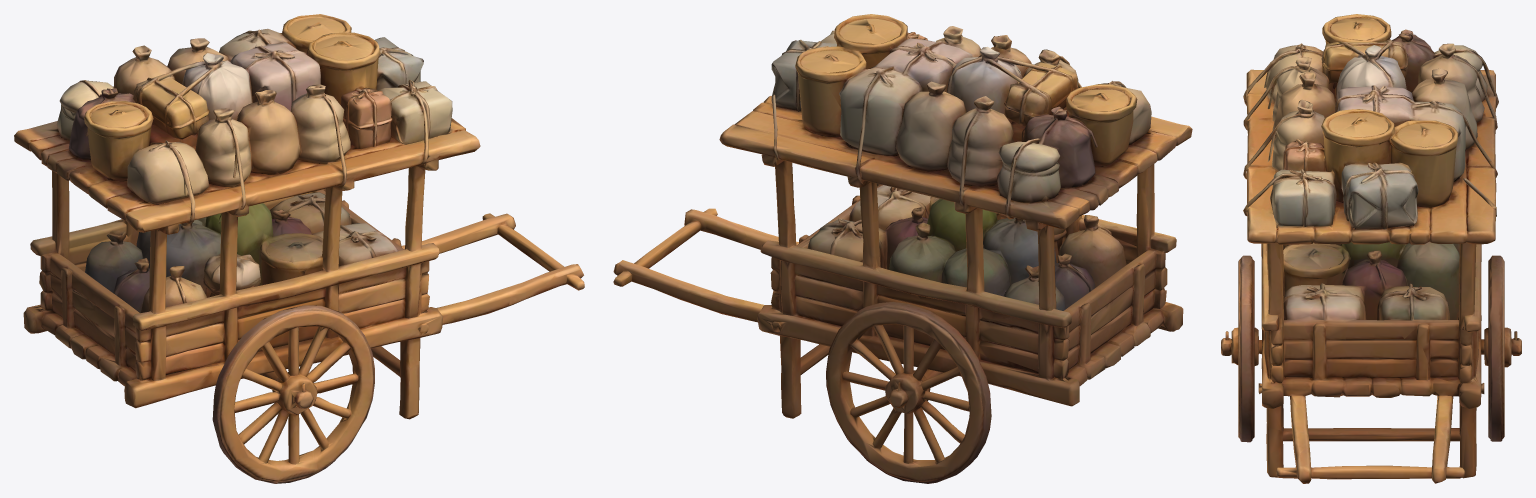
The model's file is xe-cho-hang.9b924296.glb.
3 views of the same model, side by side, from view 1: azimuth 30°, elevation 25°; view 2: azimuth 150°, elevation 25°; view 3: azimuth 270°, elevation 25° (orthographic). The views are drawn at different scales.
Parts seen in each view (by area): view 1: tripo_node_f5a4f33e-aff3-4c7f-aadc-f2dda5672677; view 2: tripo_node_f5a4f33e-aff3-4c7f-aadc-f2dda5672677; view 3: tripo_node_f5a4f33e-aff3-4c7f-aadc-f2dda5672677.
Part boxes in pixels (bbox=[...]): tripo_node_f5a4f33e-aff3-4c7f-aadc-f2dda5672677: bbox=[14, 14, 584, 483]; tripo_node_f5a4f33e-aff3-4c7f-aadc-f2dda5672677: bbox=[613, 14, 1192, 483]; tripo_node_f5a4f33e-aff3-4c7f-aadc-f2dda5672677: bbox=[1221, 14, 1521, 483].
Size of the model in its own units: 0.98 by 0.7562 by 0.5462.
Materials: 1 (1 with a texture image).
